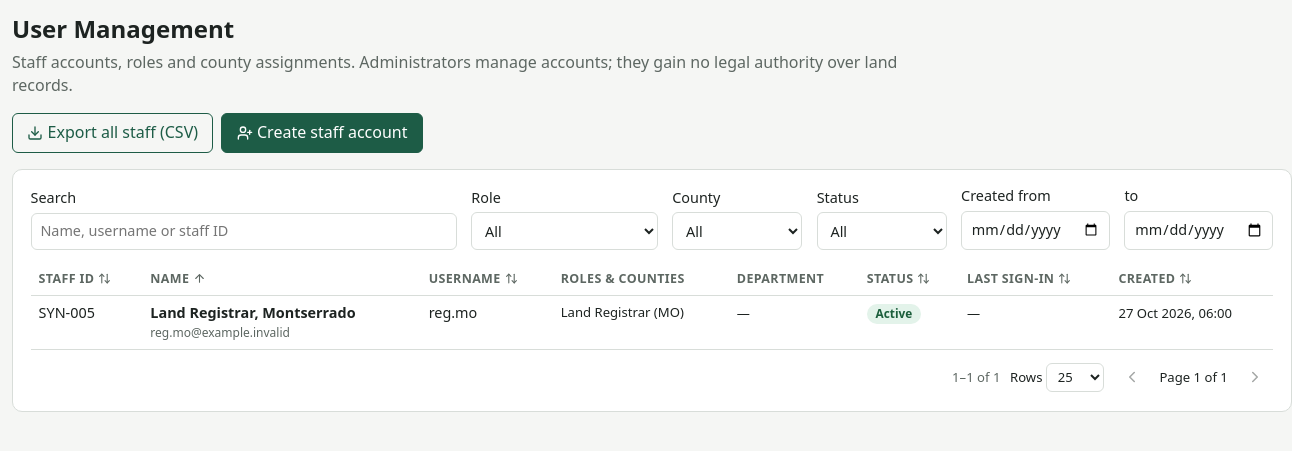
Test: User management › keeps a filter chosen straight after clearing the search
Expected: the text "reg.mo" is shown, [421,296,553,349]
Type "proc" into the search field labelled "Search".
click(244, 231); type("proc")  # box [31,213,457,250]
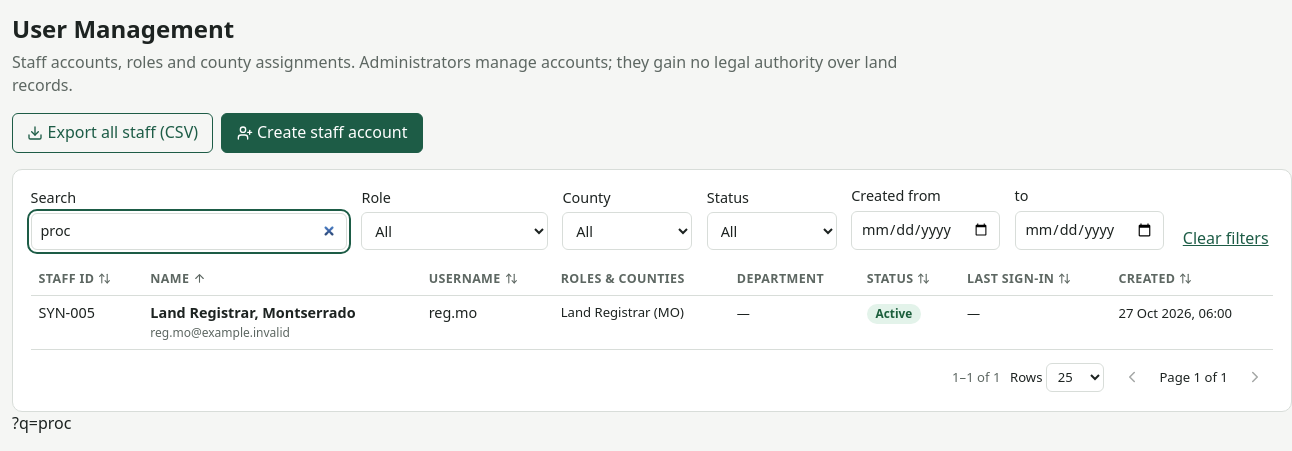
Result: the text with test id "url" shows "q=proc" at [12,412,71,434]
Click the button "Clear filters".
click(1226, 238)  # box [1178,227,1273,250]
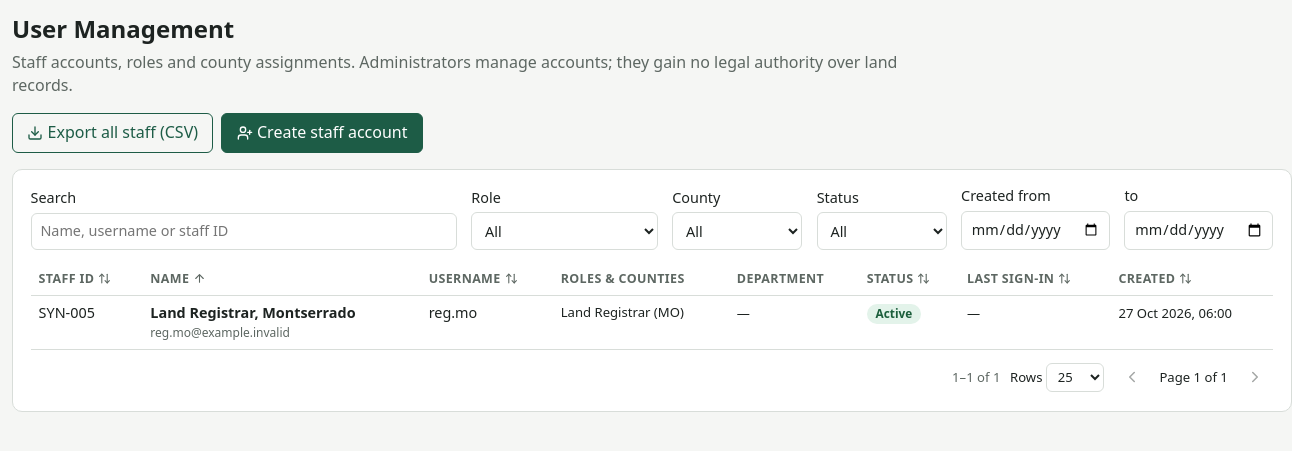
Select "Land Registrar" in the dropdown labelled "Role" at (565, 231), box [471,212,658,250]
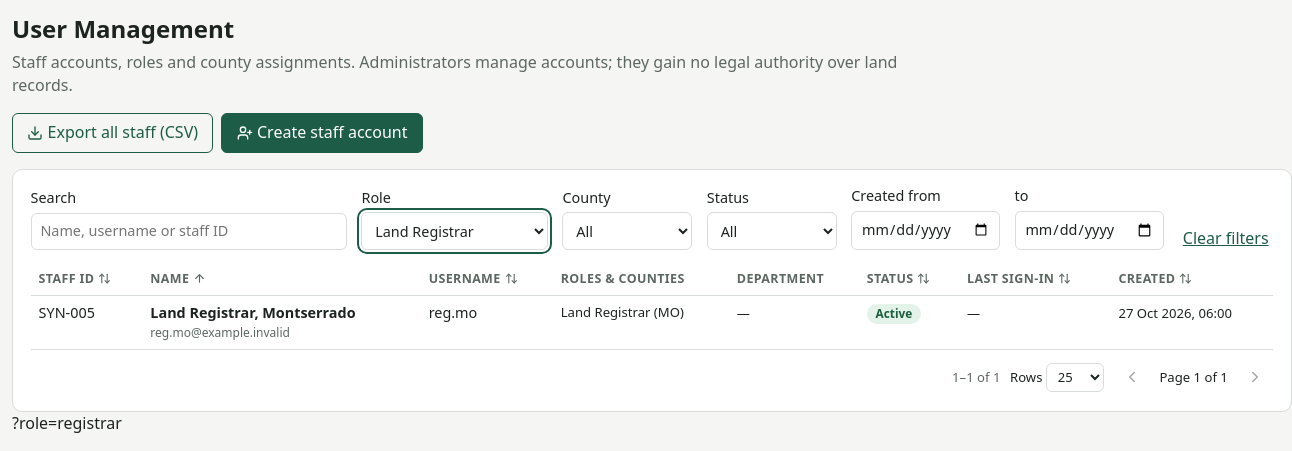
Result: the text with test id "url" does not show "q=" at [12,412,122,434]
Result: the text with test id "url" shows "role=registrar" at [12,412,122,434]
